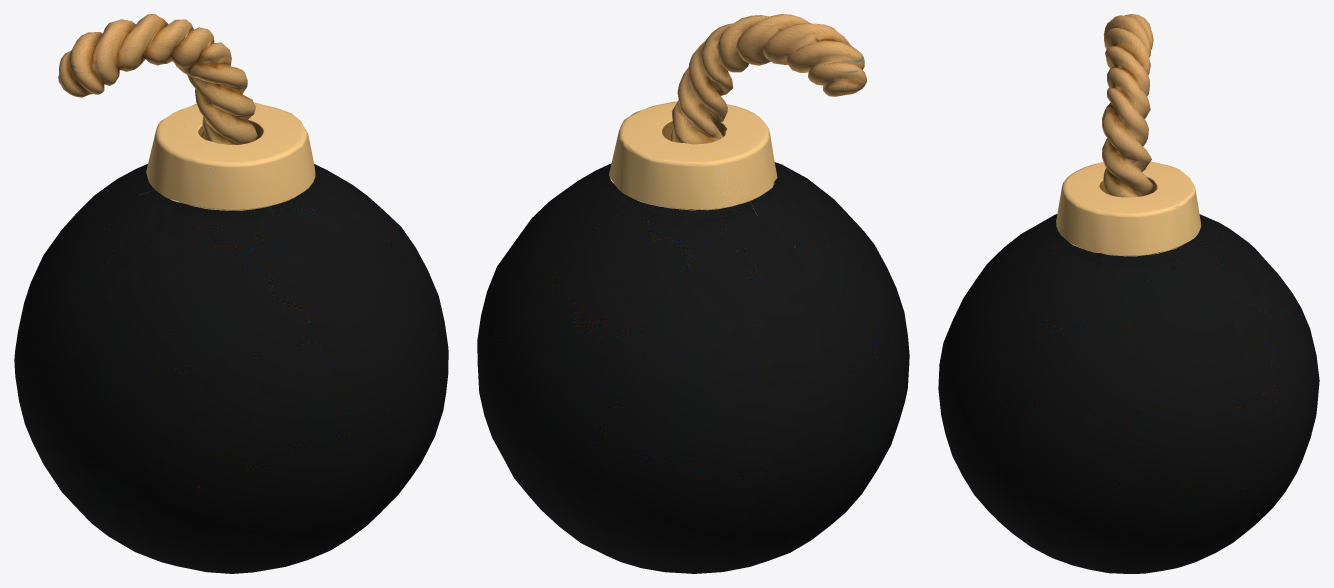
Rendered from prop_bomb_classic.glb.
The picture shows the model from 3 angles, left to right: view 1: azimuth 30°, elevation 25°; view 2: azimuth 150°, elevation 25°; view 3: azimuth 270°, elevation 25°; orthographic projection. The views are drawn at different scales.
Parts seen in each view (by area): view 1: Mesh_0; view 2: Mesh_0; view 3: Mesh_0.
Boxes of the visible parts, x1=… form: Mesh_0: x1=14, y1=14, x2=448, y2=573; Mesh_0: x1=477, y1=14, x2=909, y2=573; Mesh_0: x1=938, y1=14, x2=1319, y2=573.
Bounding box in the file's own units: 0.4911 × 0.7 × 0.4939.
Materials: 1 (1 with a texture image).
